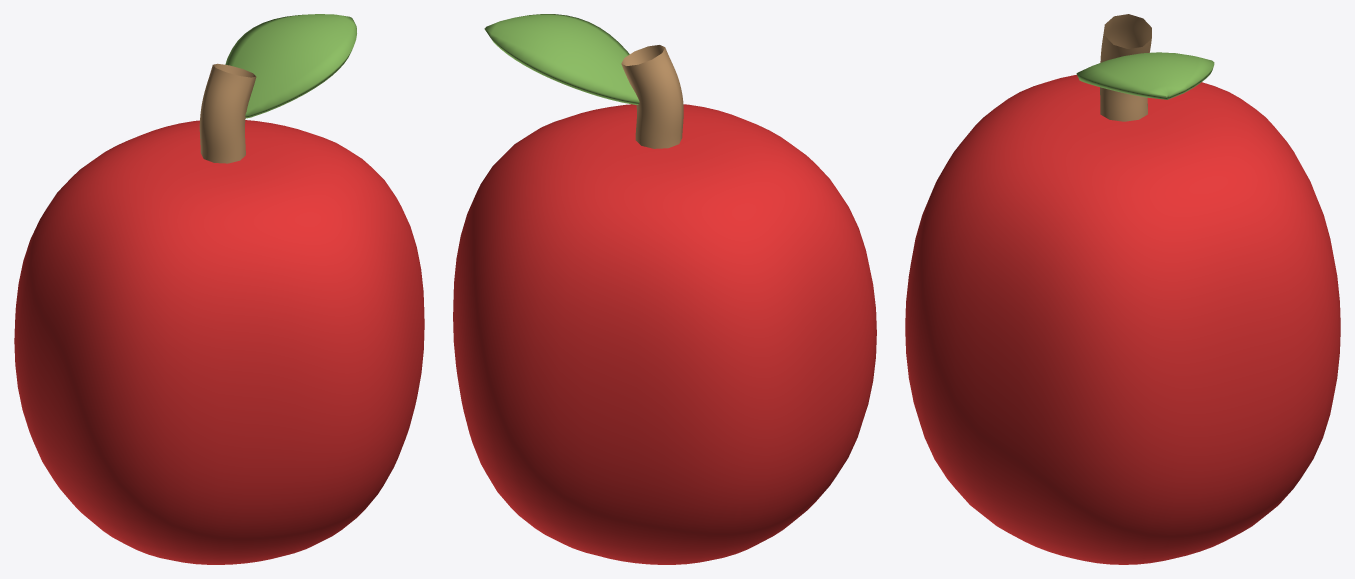
Rendered from apple.glb.
3 views of the same model, side by side, from view 1: azimuth 30°, elevation 25°; view 2: azimuth 150°, elevation 25°; view 3: azimuth 270°, elevation 25° (orthographic). The views are drawn at different scales.
Parts seen in each view (by area): view 1: Apple | rounded ruby apple.001, Apple | fresh leaf.001, Apple | brown stem.001; view 2: Apple | rounded ruby apple.001, Apple | fresh leaf.001, Apple | brown stem.001; view 3: Apple | rounded ruby apple.001, Apple | fresh leaf.001, Apple | brown stem.001.
Boxes of the visible parts, x1,y1,x2,y2 form: Apple | rounded ruby apple.001: [14, 120, 424, 564]; Apple | fresh leaf.001: [225, 14, 356, 118]; Apple | brown stem.001: [199, 63, 256, 163]; Apple | rounded ruby apple.001: [453, 104, 876, 564]; Apple | fresh leaf.001: [484, 14, 639, 104]; Apple | brown stem.001: [621, 45, 683, 148]; Apple | rounded ruby apple.001: [905, 74, 1340, 564]; Apple | fresh leaf.001: [1076, 52, 1214, 99]; Apple | brown stem.001: [1100, 14, 1151, 121].
Size of the model in its own units: 1.09 by 1.41 by 1.05.
